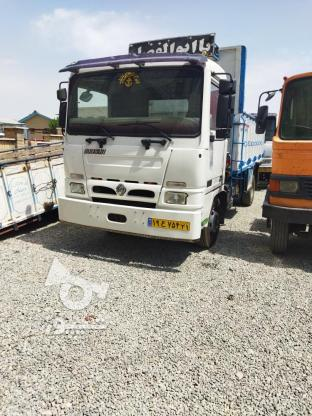car: (146, 216, 191, 232)
